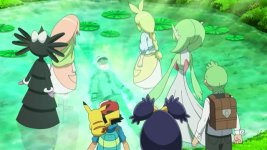gardevoir: (146, 13, 215, 110)
pikachu: (80, 100, 120, 136)
